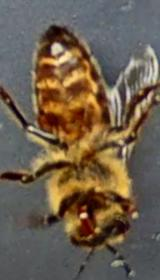varroa_mite: (30, 108, 60, 134)
